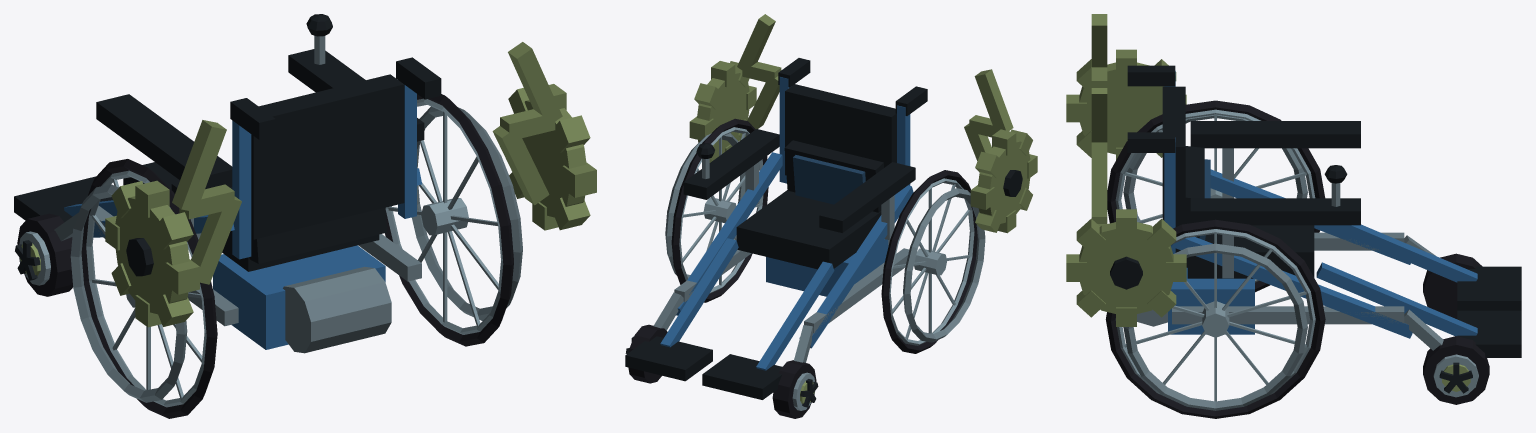
The model's file is kart.glb.
The picture shows the model from 3 angles, left to right: view 1: azimuth 30°, elevation 25°; view 2: azimuth 150°, elevation 25°; view 3: azimuth 270°, elevation 25°; orthographic projection. The views are drawn at different scales.
Visible parts, largest first — view 1: identity-motorbike-wheelchair-tubular-frame-armrests-and-foo, identity-motorbike-motif-gears, identity-motorbike-motif-electric, wheel-rear-right, wheel-rear-left, identity-motorbike-driver-cockpit, wheel-front-left; view 2: identity-motorbike-wheelchair-tubular-frame-armrests-and-foo, identity-motorbike-driver-cockpit, identity-motorbike-motif-gears, wheel-rear-left, identity-motorbike-motif-electric, wheel-rear-right, wheel-front-left, wheel-front-right; view 3: identity-motorbike-wheelchair-tubular-frame-armrests-and-foo, identity-motorbike-motif-gears, wheel-rear-right, wheel-rear-left, identity-motorbike-driver-cockpit, identity-motorbike-motif-electric, wheel-front-right, wheel-front-left.
Boxes of the visible parts, box(x1,y1,x2,y2) form: identity-motorbike-wheelchair-tubular-frame-armrests-and-foo: box(14, 14, 522, 402); identity-motorbike-motif-gears: box(105, 84, 596, 327); identity-motorbike-motif-electric: box(172, 42, 562, 284); wheel-rear-right: box(385, 94, 513, 346); wheel-rear-left: box(81, 159, 217, 418); identity-motorbike-driver-cockpit: box(171, 182, 387, 271); wheel-front-left: box(15, 213, 72, 296); identity-motorbike-wheelchair-tubular-frame-armrests-and-foo: box(625, 58, 985, 399); identity-motorbike-driver-cockpit: box(736, 140, 883, 269); identity-motorbike-motif-gears: box(689, 61, 1037, 233); wheel-rear-left: box(881, 170, 977, 353); identity-motorbike-motif-electric: box(737, 14, 1013, 160); wheel-rear-right: box(671, 118, 768, 302); wheel-front-left: box(772, 360, 818, 418); wheel-front-right: box(625, 324, 667, 383); identity-motorbike-wheelchair-tubular-frame-armrests-and-foo: box(1123, 65, 1521, 410); identity-motorbike-motif-gears: box(1066, 49, 1186, 326); wheel-rear-right: box(1105, 219, 1325, 418); wheel-rear-left: box(1107, 100, 1325, 292); identity-motorbike-driver-cockpit: box(1175, 146, 1314, 278); identity-motorbike-motif-electric: box(1091, 14, 1107, 226); wheel-front-right: box(1423, 336, 1489, 404); wheel-front-left: box(1423, 253, 1482, 318).
Size of the model in its own units: 1.97 by 1.49 by 2.2.
